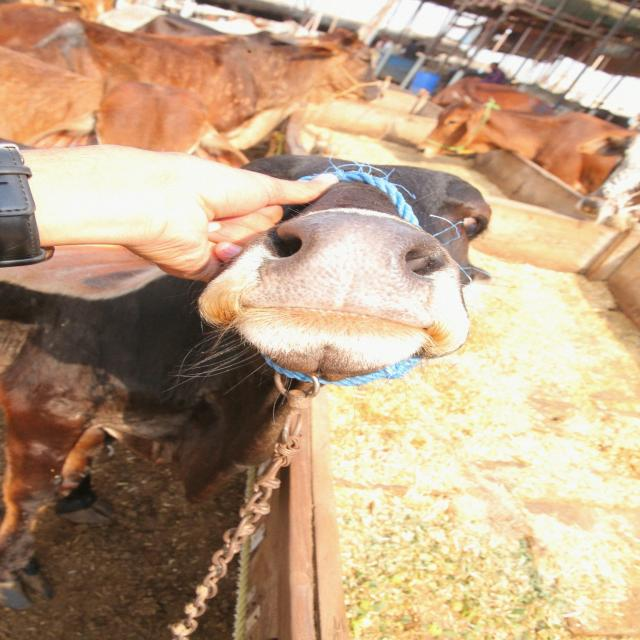muzzles: (236, 203, 456, 335)
